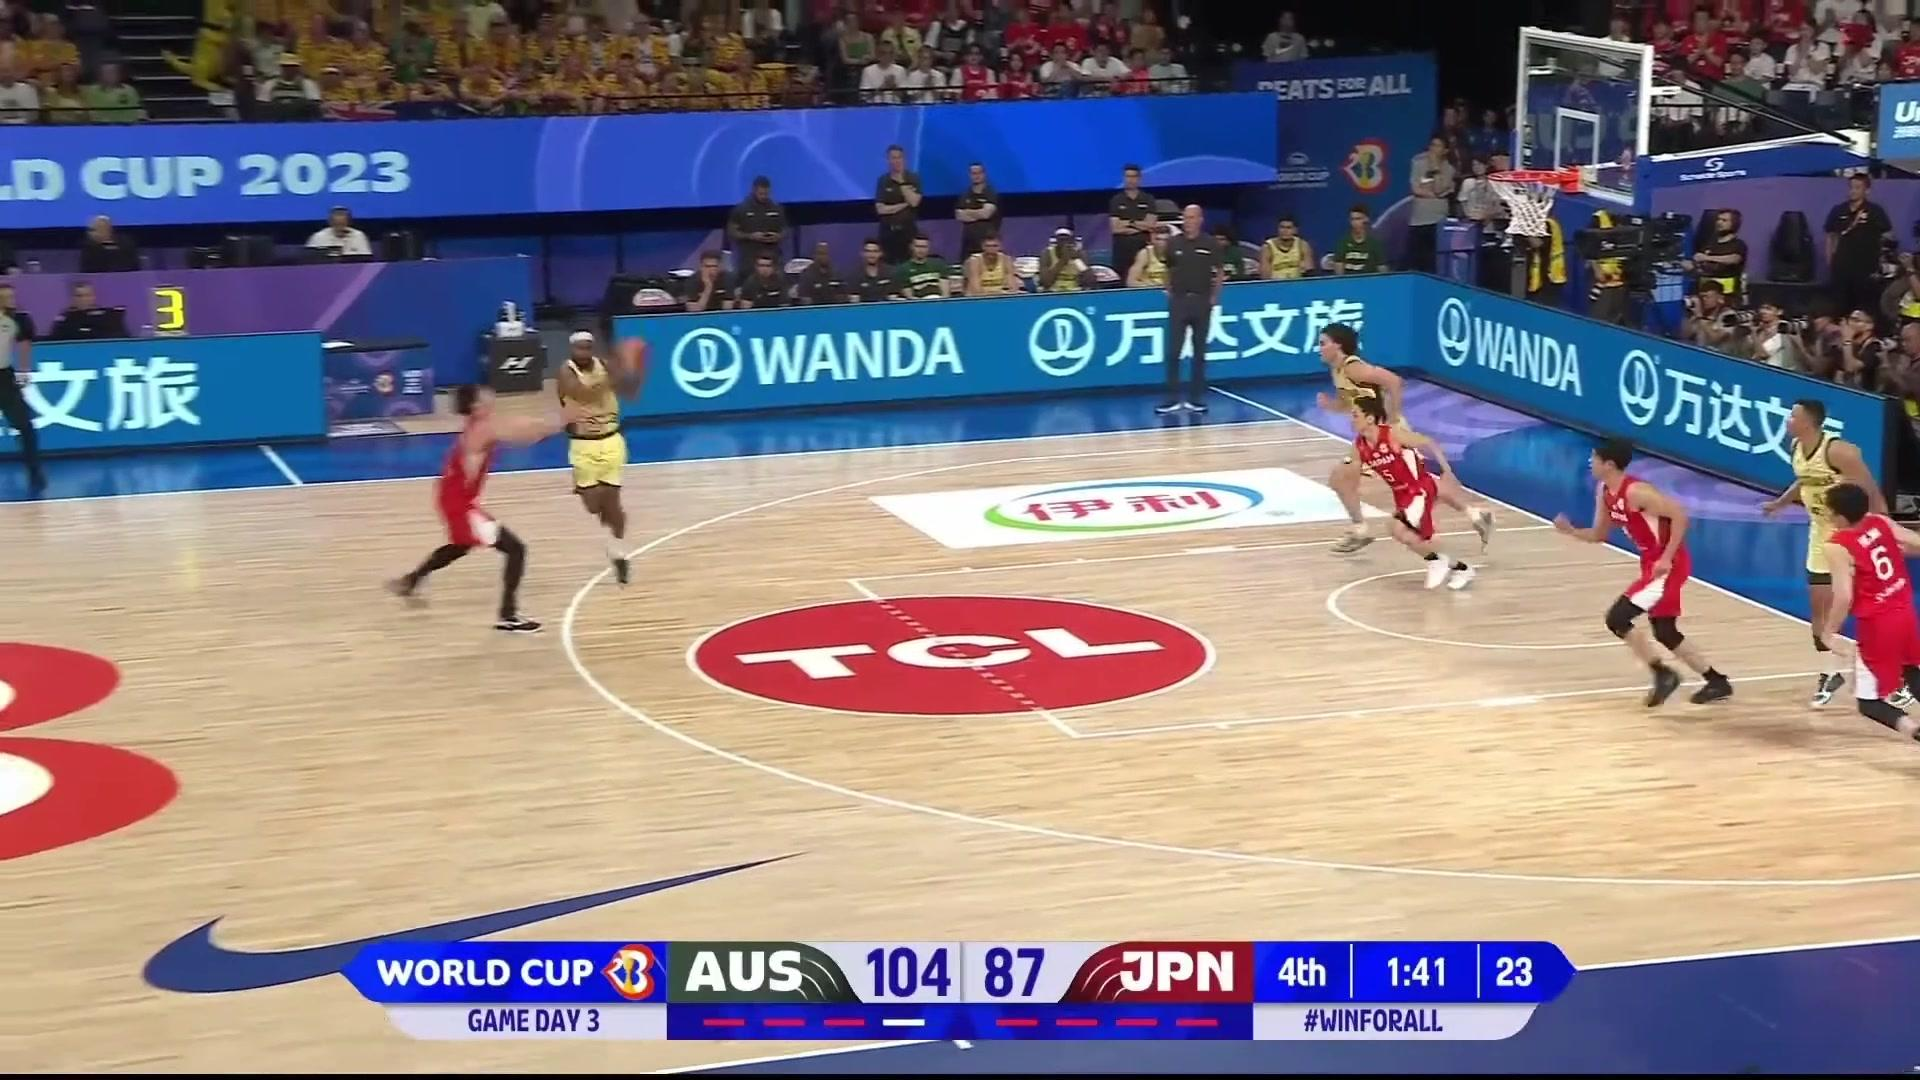no_foul: (413, 326, 684, 630)
